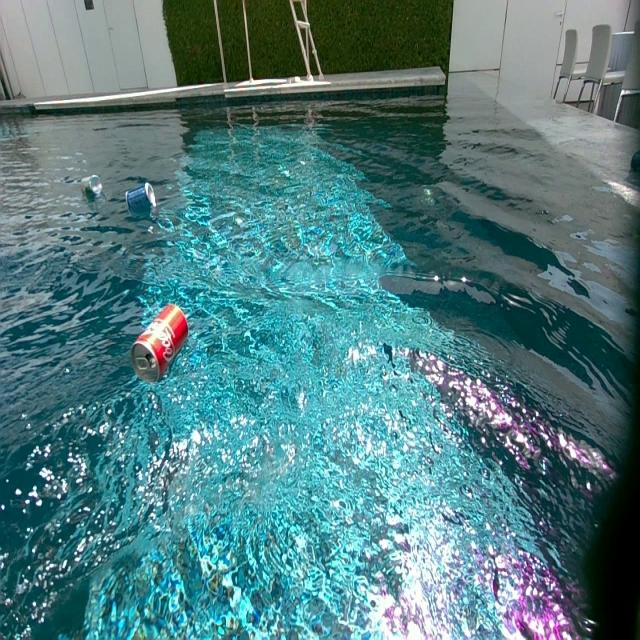Cans: (130, 306, 186, 386), (126, 180, 156, 213), (82, 176, 102, 195)
